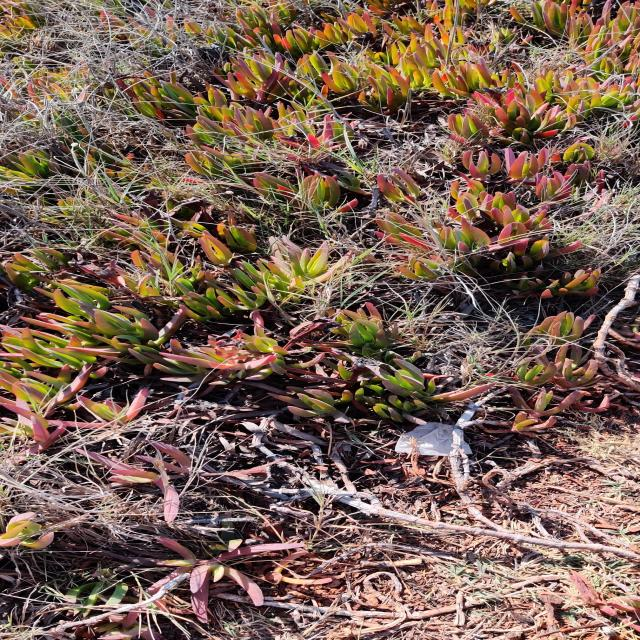litter: (394, 422, 472, 456)
